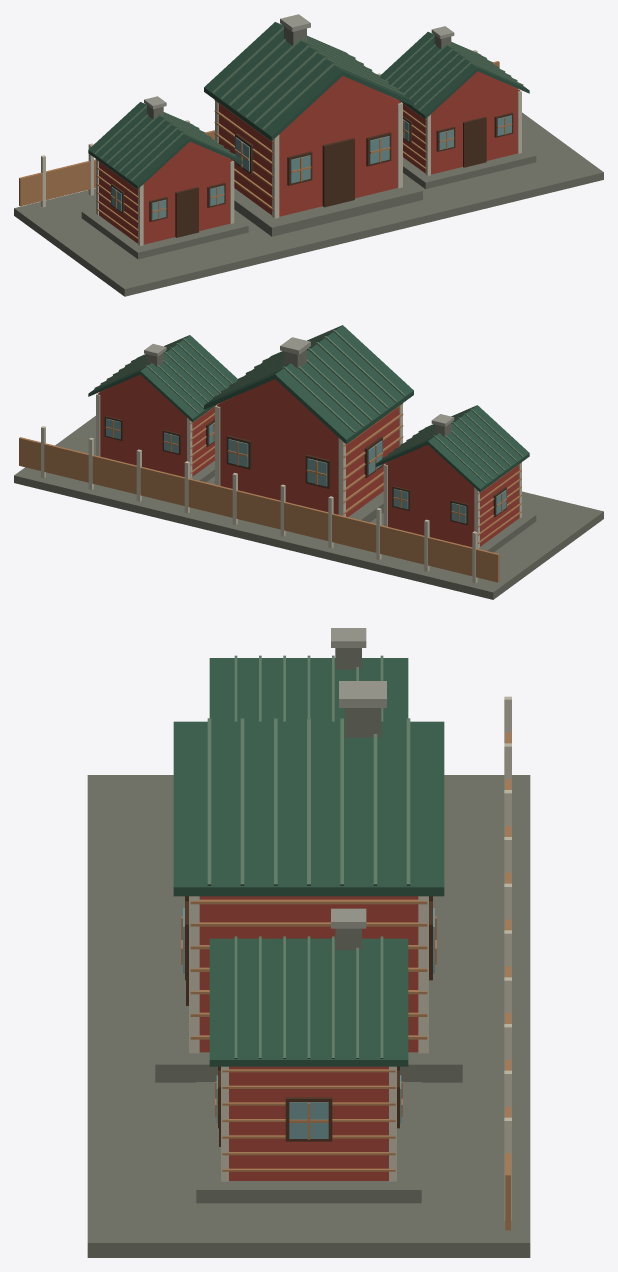
The model's file is Backyard_NeighborhoodBackdrop_Standard.glb.
3 views of the same model, one above another, from view 1: azimuth 30°, elevation 25°; view 2: azimuth 150°, elevation 25°; view 3: azimuth 270°, elevation 25° (orthographic). The views are drawn at different scales.
Visible parts, largest first — view 1: Backyard_NeighborhoodBackdrop_Standard; view 2: Backyard_NeighborhoodBackdrop_Standard; view 3: Backyard_NeighborhoodBackdrop_Standard.
Part boxes in pixels (left/top/right/bottom): Backyard_NeighborhoodBackdrop_Standard: left=14, top=14, right=603, bottom=296; Backyard_NeighborhoodBackdrop_Standard: left=14, top=325, right=603, bottom=599; Backyard_NeighborhoodBackdrop_Standard: left=87, top=628, right=530, bottom=1257.
Bounding box in the file's own units: 20 × 6.66 × 8.
